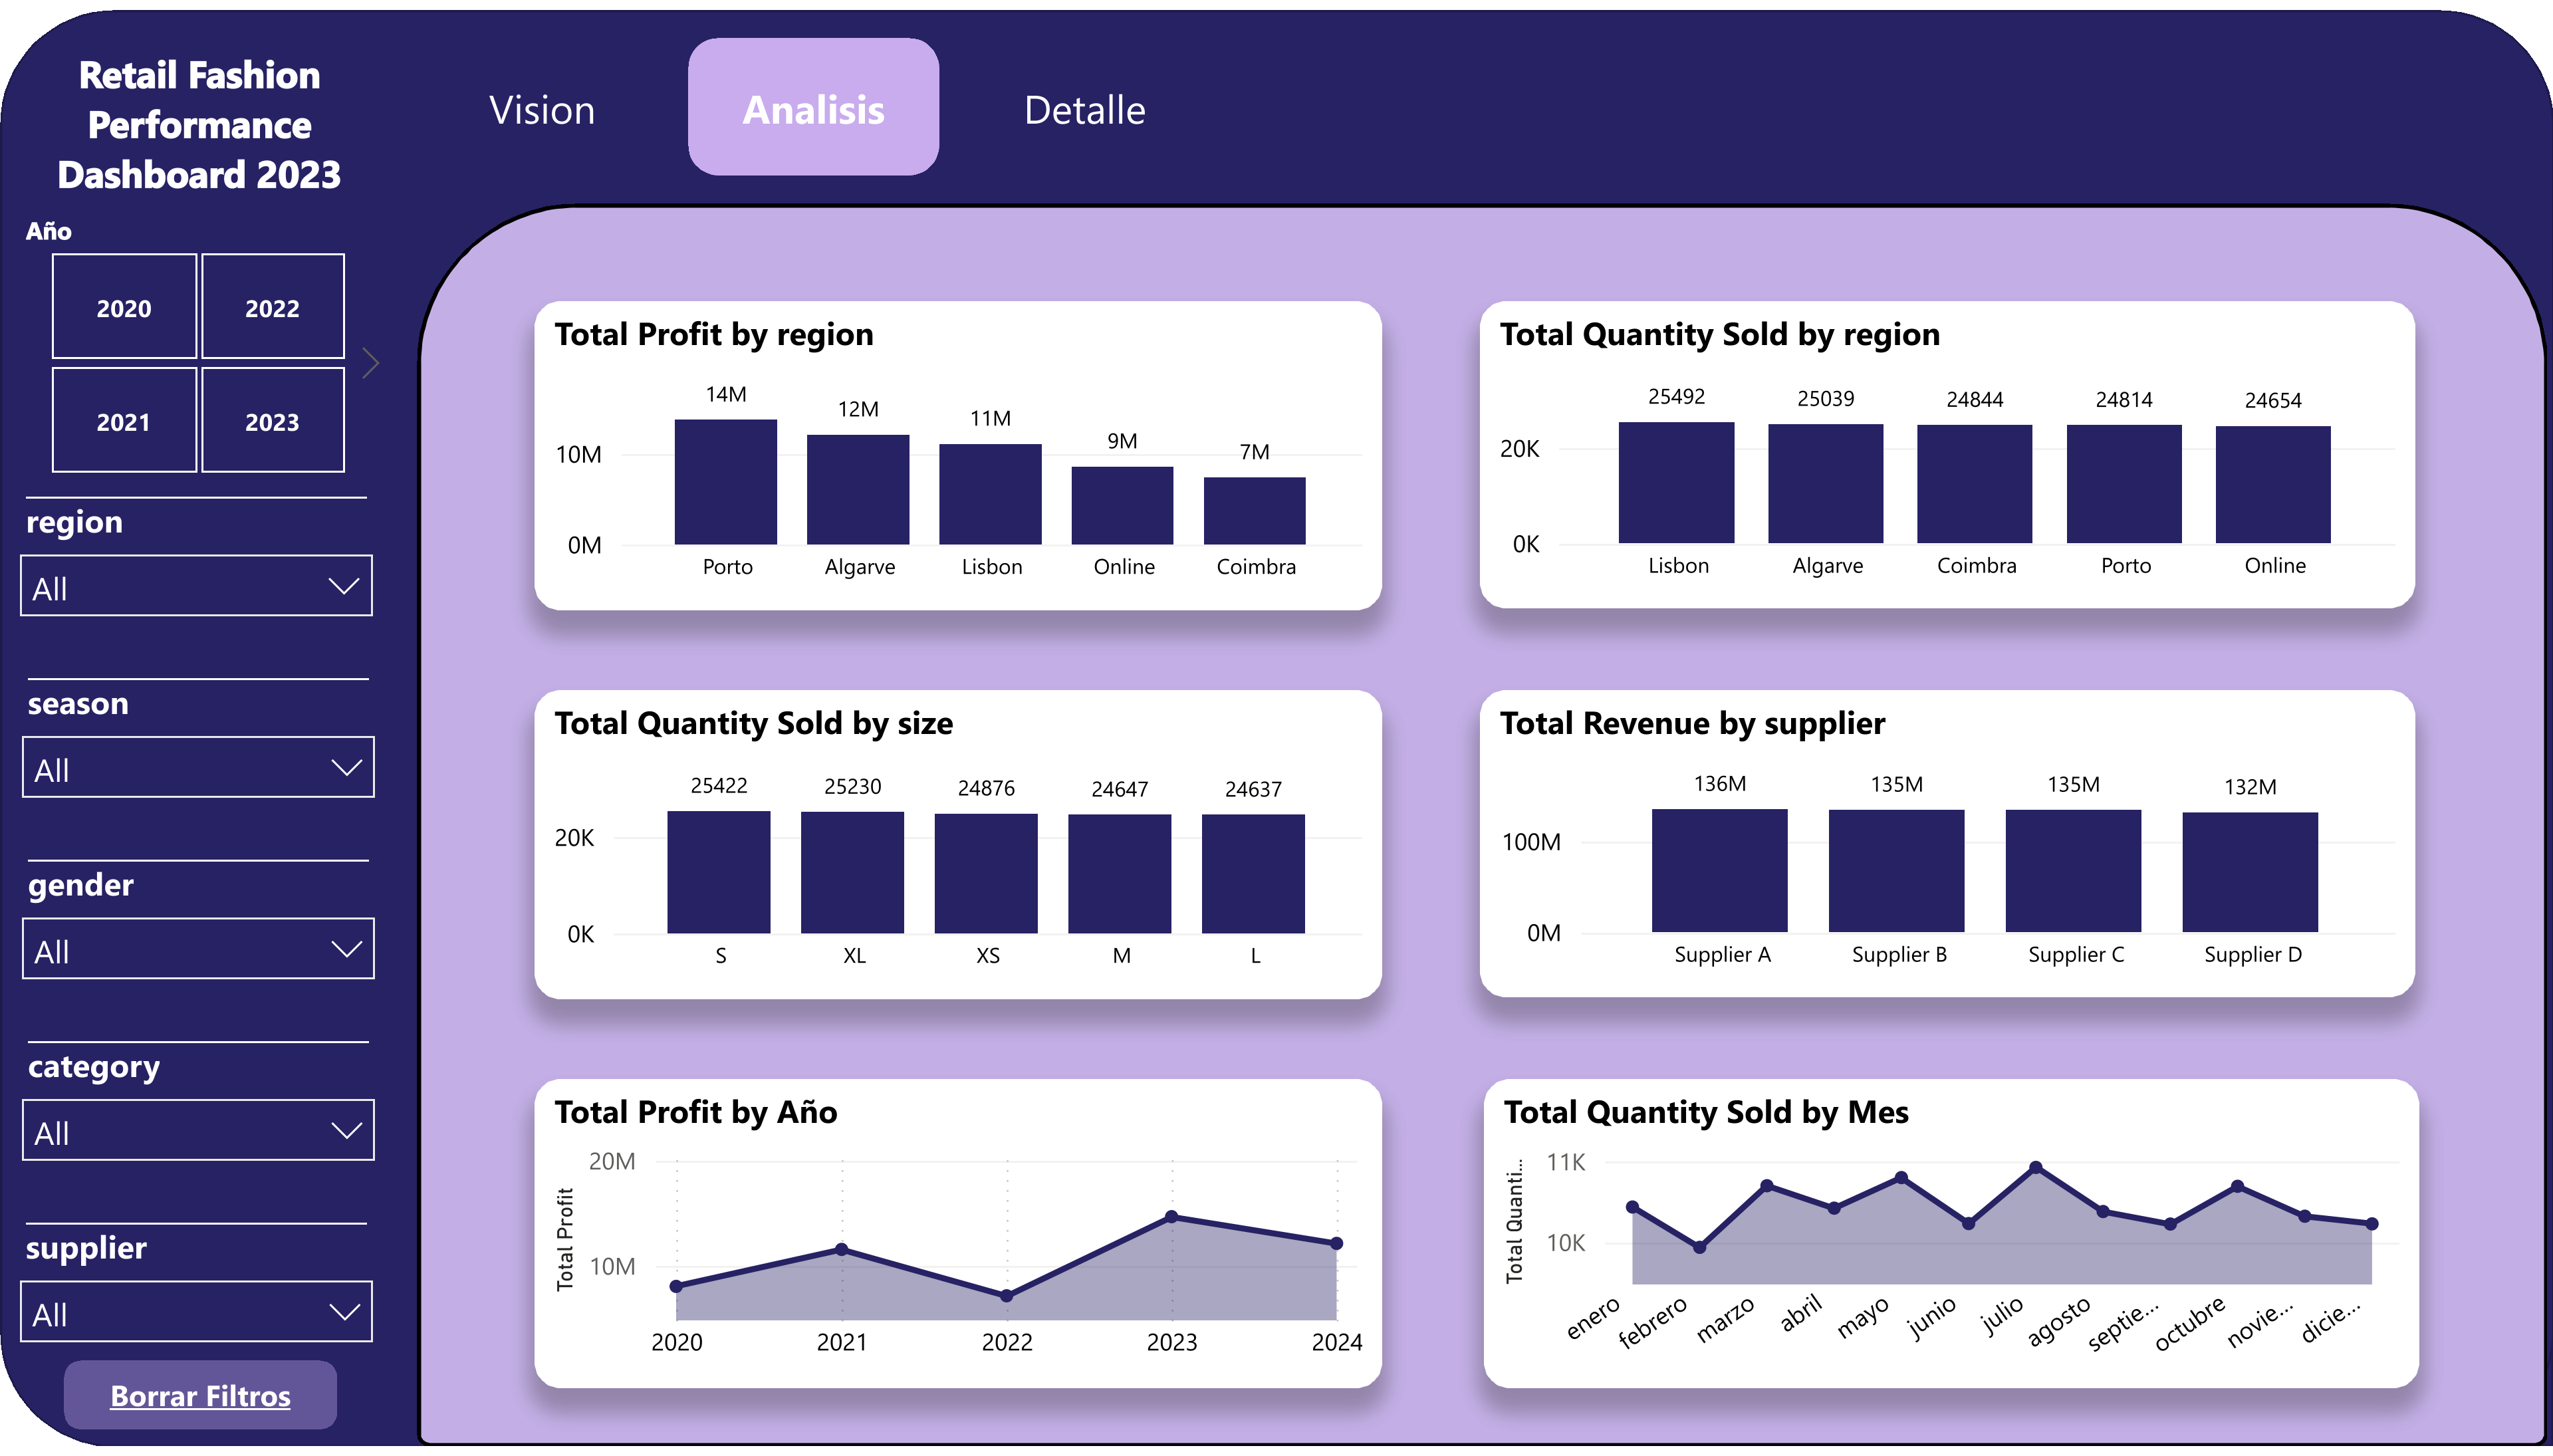

This screenshot's page, from the dashboard's own definition file:
{"tool":"powerbi","page":{"name":"Analisis","canvas":[1280,720],"ordinal":1},"visuals":[{"type":"shape","box":[324.2,330.4,956.3,390.2],"z":0},{"type":"shape","box":[0,0,1280.4,720.6],"z":1000},{"type":"textbox","box":[1.2,13.7,198.2,97.2],"z":2000},{"type":"slicer","fields":{"Values":["sales_data.date.Variación.Jerarquía de fechas.Año"]},"box":[0,97.2,197,142.1],"z":3000},{"type":"slicer","fields":{"Values":["store_data.region"]},"box":[0,239.2,196.5,91],"z":4000},{"type":"slicer","fields":{"Values":["product_data.season"]},"box":[1.2,330.4,197,91],"z":5000},{"type":"slicer","fields":{"Values":["product_data.category"]},"box":[1.2,512.4,197,91],"z":6000},{"type":"slicer","fields":{"Values":["customer_data.gender"]},"box":[1.2,421.4,197,91],"z":7000},{"type":"slicer","fields":{"Values":["product_data.supplier"]},"box":[0,603.4,197,91],"z":8000},{"type":"shape","box":[209.5,97.2,1068.5,623.4],"z":9000},{"type":"pageNavigator","box":[209.5,13.7,400.2,69.8],"z":10000},{"type":"clusteredColumnChart","fields":{"Category":["store_data.region"],"Y":["_Measures.Total Profit"]},"box":[268.1,145.9,425.1,154.6],"z":11000},{"type":"clusteredColumnChart","fields":{"Category":["product_data.size"],"Y":["_Measures.Total Quantity Sold"]},"box":[268.1,341,425.1,154.6],"z":12000},{"type":"clusteredColumnChart","fields":{"Category":["store_data.region"],"Y":["_Measures.Total Quantity Sold"]},"box":[742.5,145.9,468.8,154],"z":13000},{"type":"lineChart","fields":{"Category":["sales_data.date.Variación.Jerarquía de fechas.Año"],"Y":["_Measures.Total Profit"]},"box":[268.1,536.1,425.1,154.6],"z":14000},{"type":"lineChart","fields":{"Category":["sales_data.date.Variación.Jerarquía de fechas.Mes"],"Y":["_Measures.Total Quantity Sold"]},"box":[744.3,536.1,468.8,154.6],"z":15000},{"type":"clusteredColumnChart","fields":{"Category":["product_data.supplier"],"Y":["_Measures.Total Revenue"]},"box":[742.5,341,468.8,154],"z":16000},{"type":"actionButton","box":[32.4,677,137.1,34.9],"z":17000}]}

Visuals, with their boxes in screenshot pixels (x1, y1, x2, y2), scaled from the page's 1280x720 canvas onto the 2553x1456 screenshot:
shape: x1=647 y1=668 x2=2552 y2=1455
shape: x1=0 y1=0 x2=2552 y2=1455
textbox: x1=3 y1=28 x2=398 y2=224
slicer - sales_data.date.Variación.Jerarquía de fechas.Año: x1=0 y1=197 x2=393 y2=484
slicer - store_data.region: x1=0 y1=484 x2=392 y2=667
slicer - product_data.season: x1=3 y1=668 x2=396 y2=852
slicer - product_data.category: x1=3 y1=1036 x2=396 y2=1220
slicer - customer_data.gender: x1=3 y1=852 x2=396 y2=1036
slicer - product_data.supplier: x1=0 y1=1220 x2=393 y2=1404
shape: x1=418 y1=197 x2=2549 y2=1455
pageNavigator: x1=418 y1=28 x2=1216 y2=169
clusteredColumnChart - store_data.region x _Measures.Total Profit: x1=535 y1=295 x2=1383 y2=608
clusteredColumnChart - product_data.size x _Measures.Total Quantity Sold: x1=535 y1=689 x2=1383 y2=1002
clusteredColumnChart - store_data.region x _Measures.Total Quantity Sold: x1=1481 y1=295 x2=2416 y2=606
lineChart - sales_data.date.Variación.Jerarquía de fechas.Año x _Measures.Total Profit: x1=535 y1=1084 x2=1383 y2=1397
lineChart - sales_data.date.Variación.Jerarquía de fechas.Mes x _Measures.Total Quantity Sold: x1=1485 y1=1084 x2=2419 y2=1397
clusteredColumnChart - product_data.supplier x _Measures.Total Revenue: x1=1481 y1=689 x2=2416 y2=1001
actionButton: x1=64 y1=1369 x2=338 y2=1439
